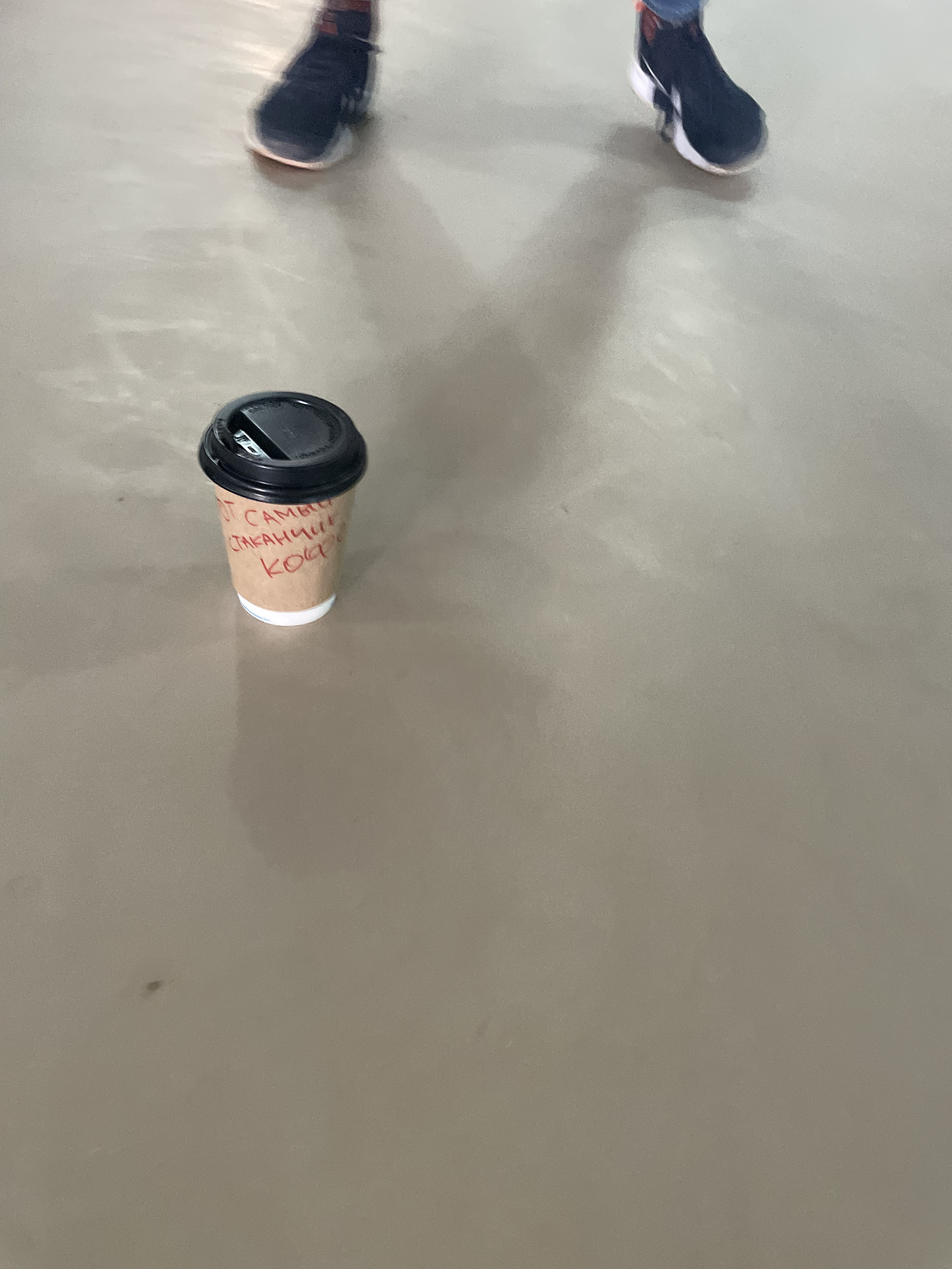cup: (200, 391, 365, 627)
